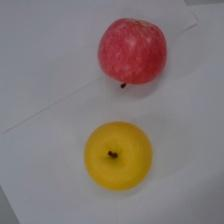red: (96, 15, 168, 91)
yellow: (83, 120, 153, 192)
